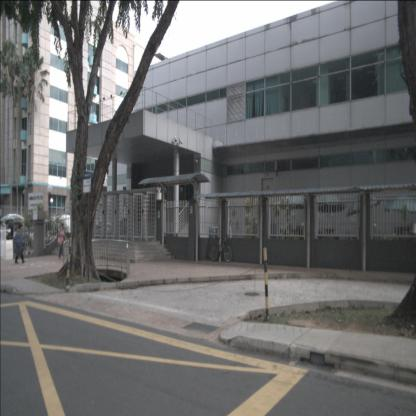human-pedestrian-adult: (13, 224, 26, 264), (57, 223, 67, 260)
vehicle-bicycle: (210, 235, 233, 263)
vehicle-car: (0, 214, 26, 234), (3, 219, 24, 240)
